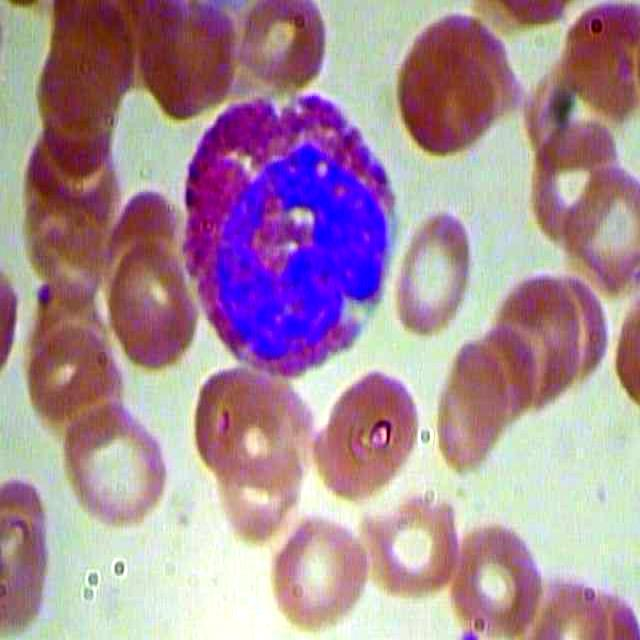RBC: (386, 5, 514, 163), (306, 365, 428, 507), (56, 395, 178, 536), (266, 513, 373, 640), (359, 484, 466, 611), (104, 235, 200, 372), (425, 336, 513, 485), (388, 210, 478, 350), (449, 518, 541, 640), (230, 1, 331, 96)
WBC: (170, 76, 411, 387)
